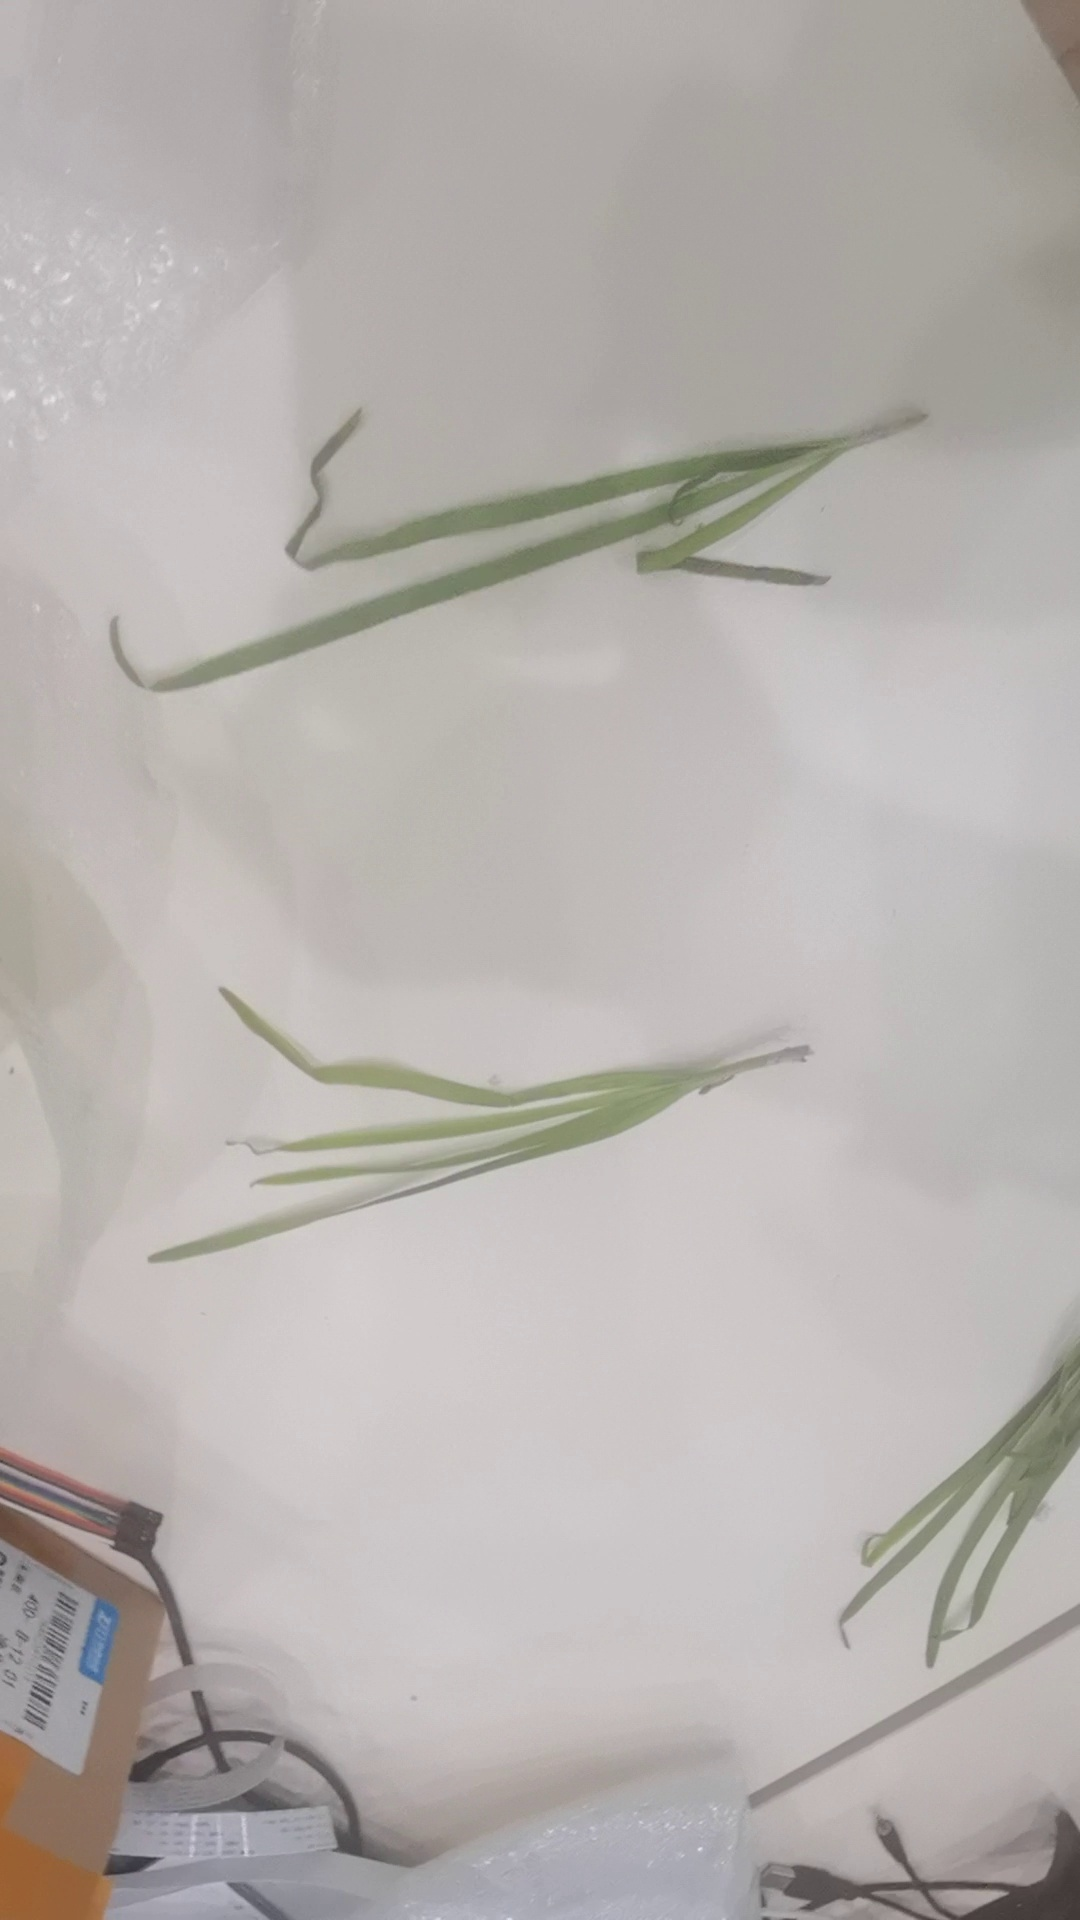chives: (87, 398, 986, 735), (96, 971, 825, 1284)
